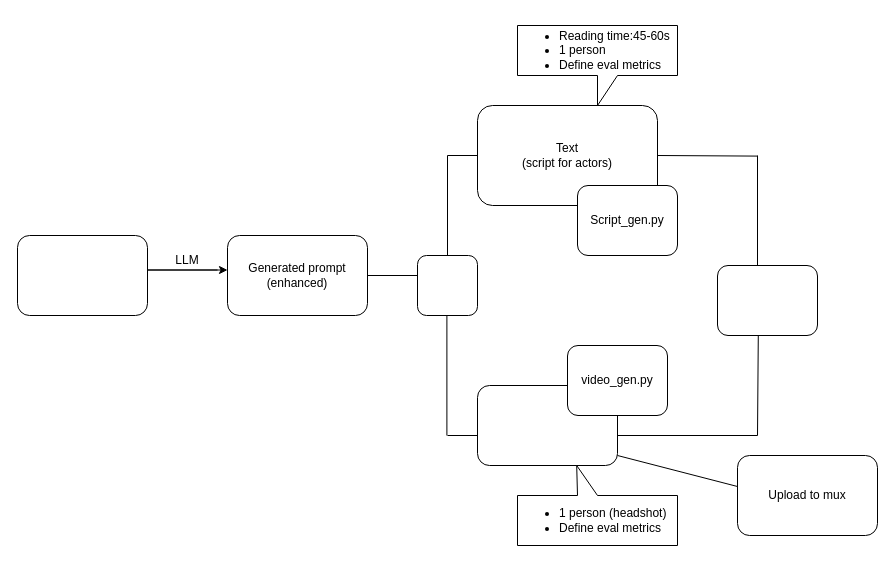
Some shapes in this 895 by 564 pixel diagram are drawn without their labels. The shapes that lost their labels are listed below. From the top down, each one's box as (x1, y1, x2, y2) in pixels, then its label:
(16, 234, 148, 316): Human Prompt (crude)
(416, 254, 478, 316): run.py
(716, 264, 818, 336): main.py (FastAPI)
(476, 384, 618, 466): Video
